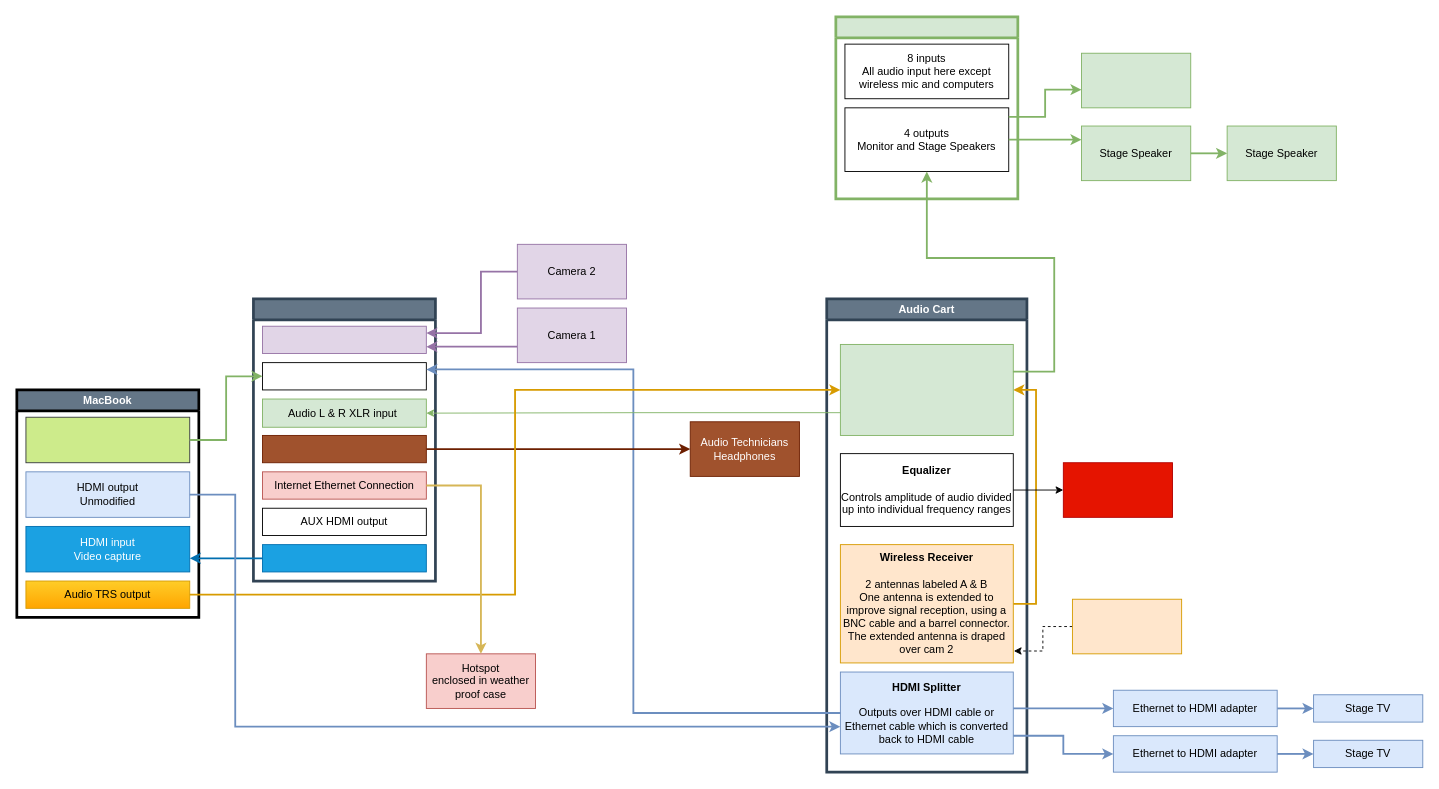
This 1439x789 diagram has some shape labels left out. The shapes that lost their labels are listed below. From the top down, each one's box as (x1, y1, x2, y2) in pixels, then its label:
(1081, 52, 1191, 108): Stage Monitor Speaker
(834, 15, 1019, 200): Audio Snake
(262, 325, 426, 354): Cameras 1 - 6 BNC input
(262, 362, 426, 390): Cameras 7 - 8 HDMI input
(839, 344, 1013, 435): Sound Board Audio Levels Effects Live Stream Volume Room Volume
(25, 416, 190, 463): HDMI output Lower Thirds
(252, 297, 436, 582): RESI
(262, 435, 426, 463): Live Stream Audio TRS Output
(1062, 462, 1173, 517): Not sure how this is connected
(262, 544, 426, 572): Program HDMI output
(1072, 598, 1182, 654): Wireless Mic
